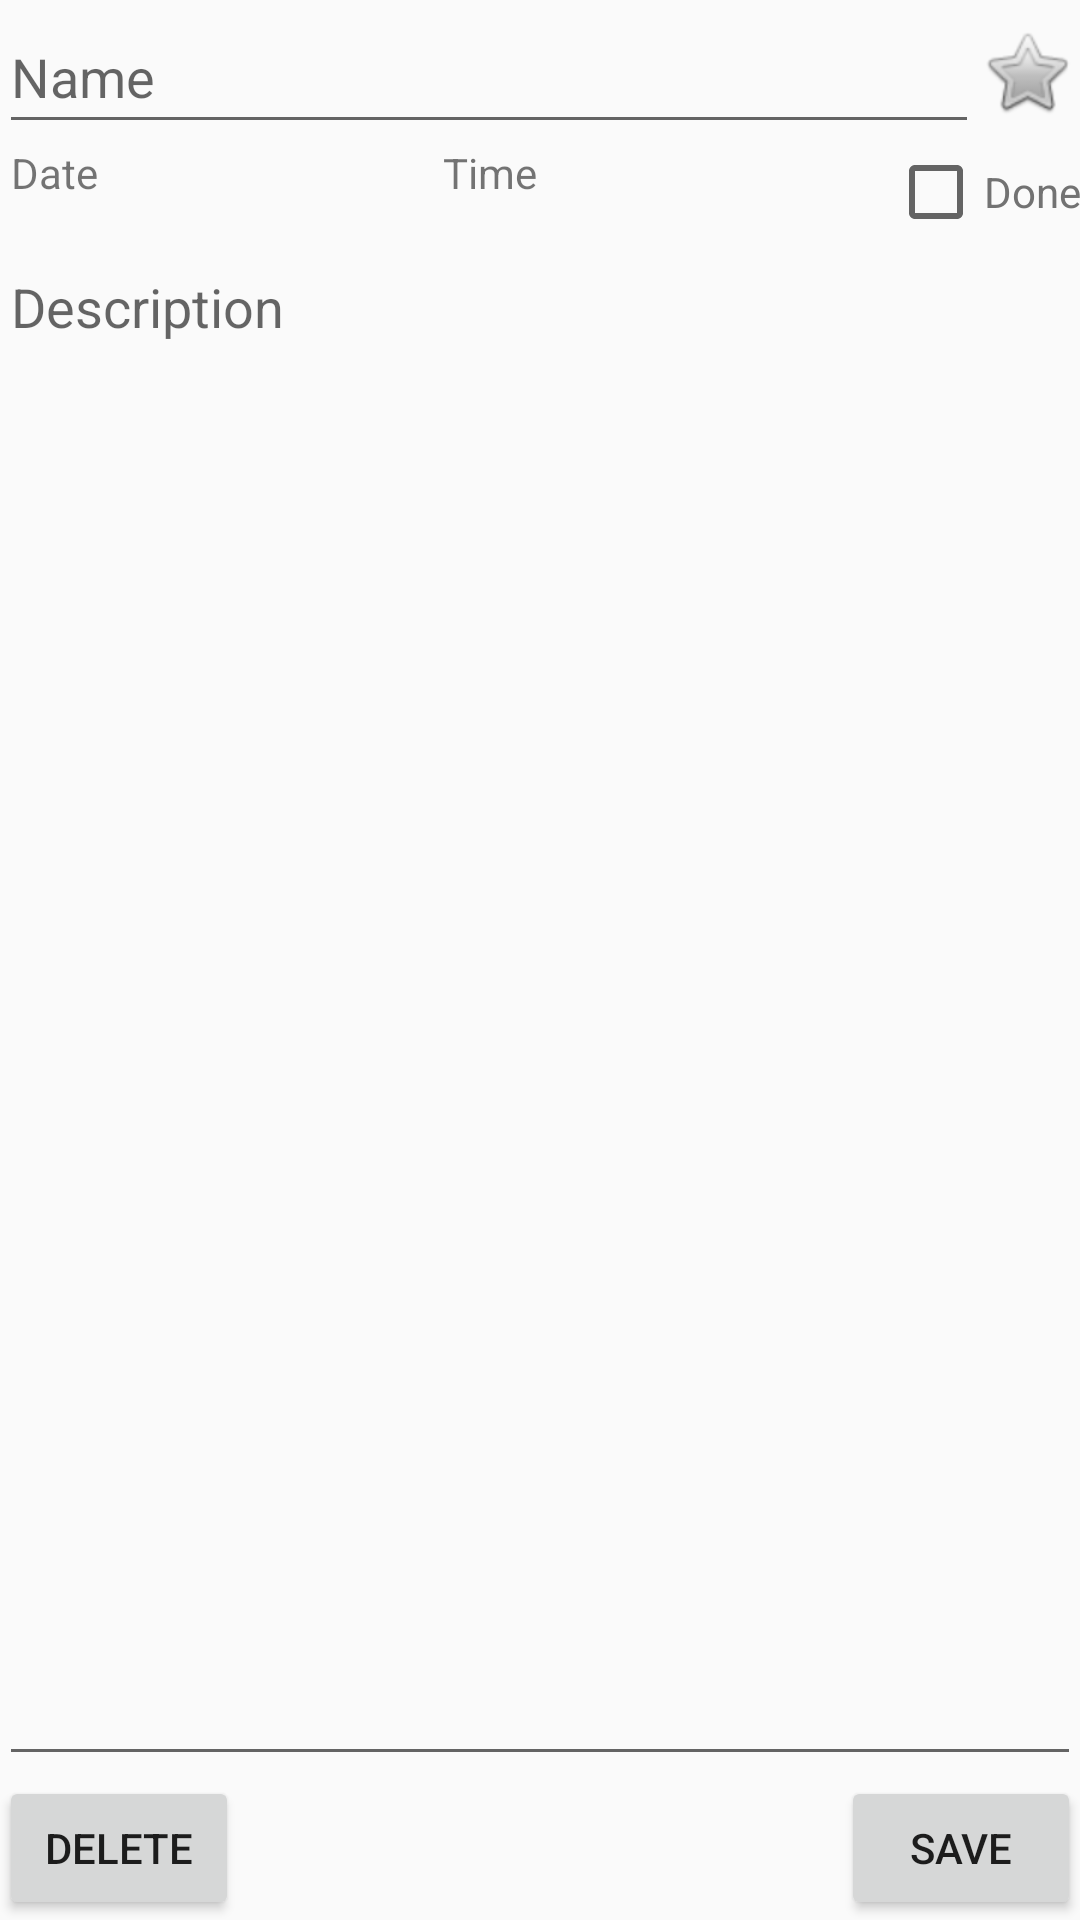

Where icons sit on this 1080w x 1920h app screen, as (x1, y1, x2, y2):
star: (988, 34, 1068, 112)
